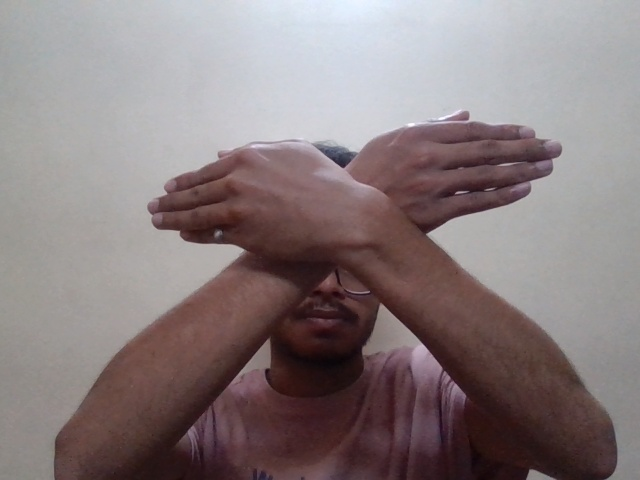feel: (159, 107, 559, 292)
